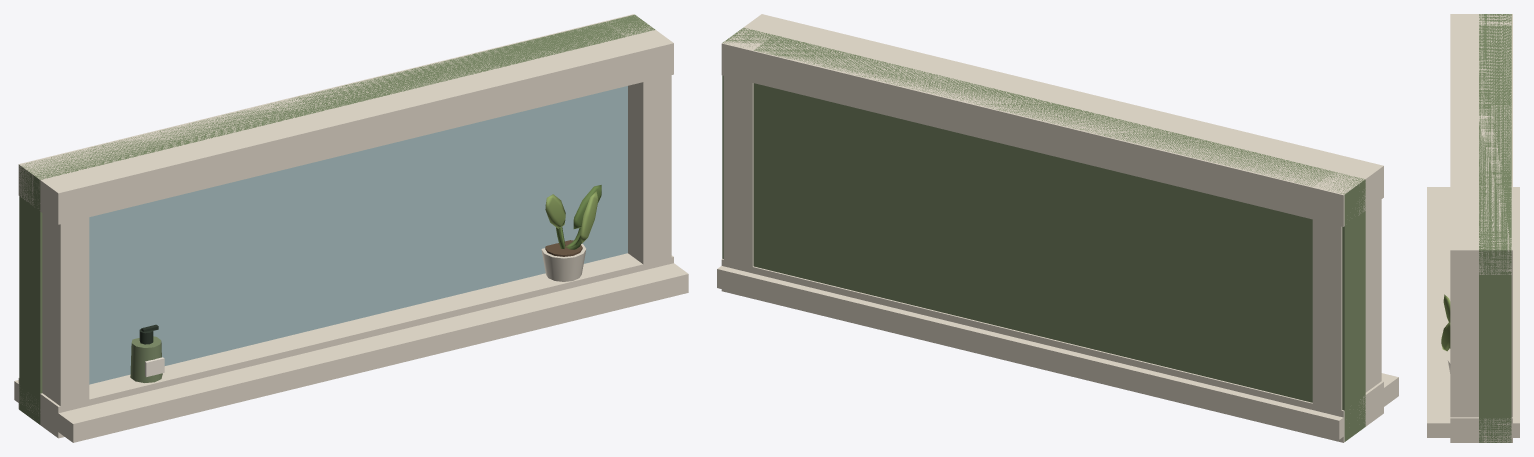
The model's file is bathroom_ref_window.glb.
The picture shows the model from 3 angles, left to right: view 1: azimuth 30°, elevation 25°; view 2: azimuth 150°, elevation 25°; view 3: azimuth 270°, elevation 25°; orthographic projection. The views are drawn at different scales.
Bounding box in the file's own units: 2.05 × 0.78 × 0.34.
